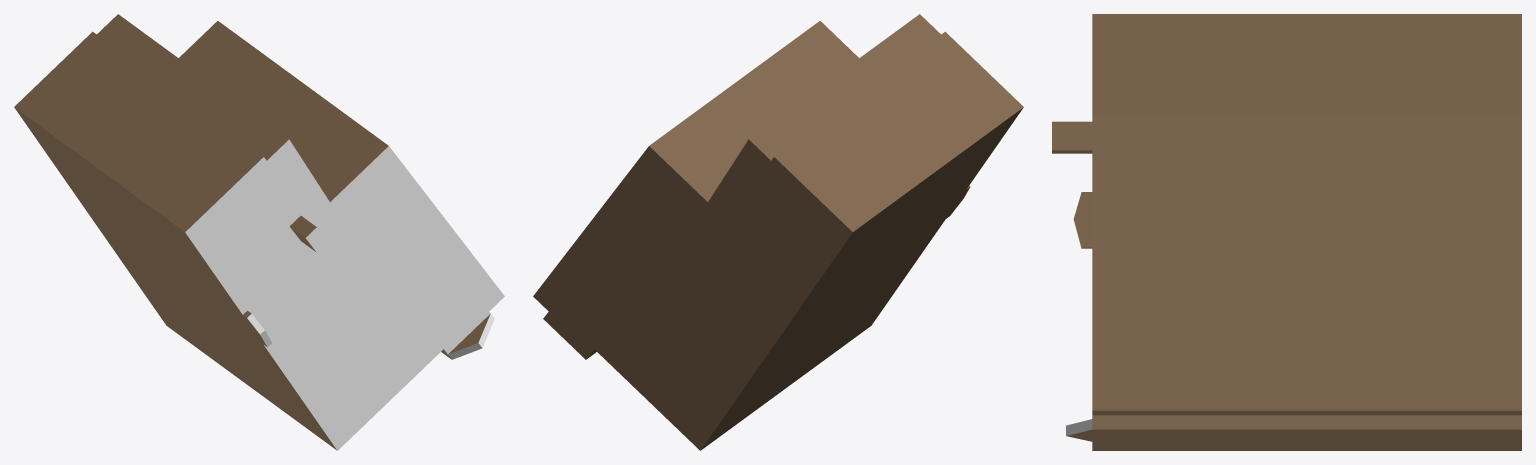
3 views of the same model, side by side, from view 1: azimuth 30°, elevation 25°; view 2: azimuth 150°, elevation 25°; view 3: azimuth 270°, elevation 25° (orthographic). The views are drawn at different scales.
Visible parts, largest first — view 1: City_PC-08658; view 2: City_PC-08658; view 3: City_PC-08658.
Boxes of the visible parts, x1=… form: City_PC-08658: x1=14, y1=14, x2=504, y2=450; City_PC-08658: x1=533, y1=14, x2=1023, y2=450; City_PC-08658: x1=1052, y1=14, x2=1521, y2=450.
Bounding box in the file's own units: 1718 × 1660 × 1741.
